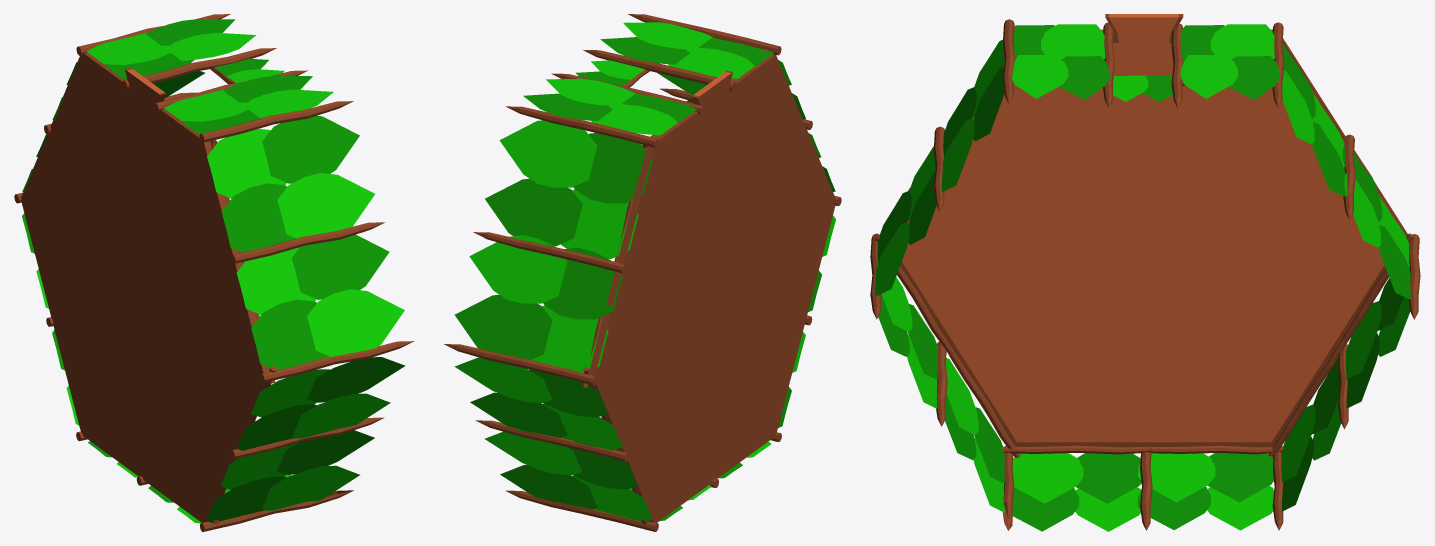
Rendered from InsideHut.fbx.
3 renders of one model, left to right at view 1: azimuth 30°, elevation 25°; view 2: azimuth 150°, elevation 25°; view 3: azimuth 270°, elevation 25°, orthographic. The views are drawn at different scales.
Parts seen in each view (by area): view 1: Cylinder.005, Torus.013, Torus.010; view 2: Cylinder.005, Torus.013, Torus.010; view 3: Cylinder.005, Torus.013, Torus.010.
Part boxes in pixels (x1,y1,x2,y2): Cylinder.005: [21, 52, 269, 522]; Torus.013: [22, 19, 405, 523]; Torus.010: [14, 14, 414, 531]; Cylinder.005: [588, 54, 835, 522]; Torus.013: [454, 22, 835, 521]; Torus.010: [444, 14, 841, 531]; Cylinder.005: [900, 14, 1407, 447]; Torus.013: [875, 24, 1410, 531]; Torus.010: [870, 19, 1420, 530].
Size of the model in its own units: 2297 by 2041 by 805.
